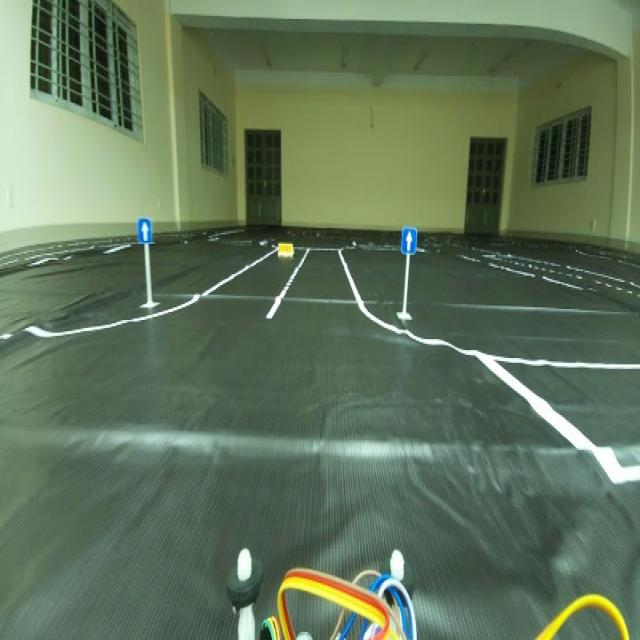onewayroad: (133, 212, 157, 250), (397, 222, 419, 263)
roadblock: (274, 238, 292, 259)
